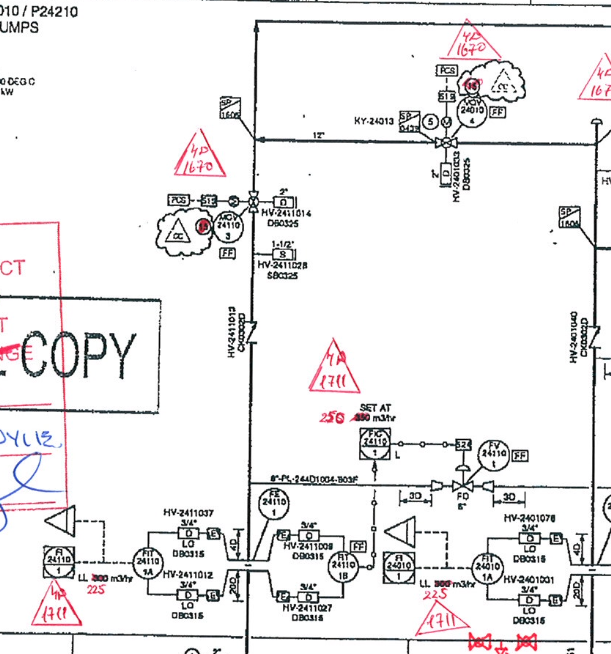Instrument: (467, 550, 507, 590), (455, 93, 492, 133), (480, 430, 510, 479), (323, 548, 362, 585), (257, 485, 293, 525), (213, 208, 247, 250), (132, 546, 164, 581)
Instrument-square: (38, 542, 80, 583), (355, 424, 396, 465), (376, 548, 418, 588)
